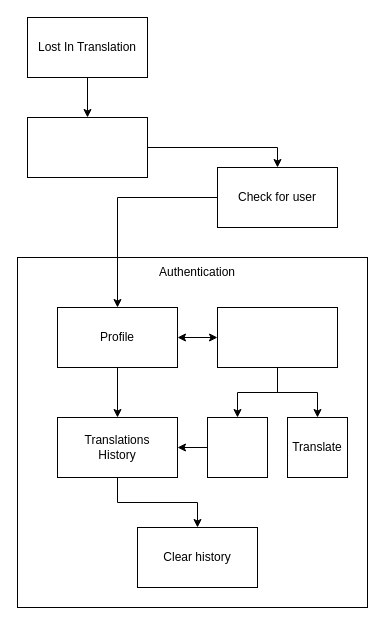
Image size: 385x625. Some labels were removed from this diagram. Each missing label, with the centre of its shape:
"Add" goes at pixel 237 447.
"Login" goes at pixel 87 147.
"Translations" goes at pixel 277 337.
